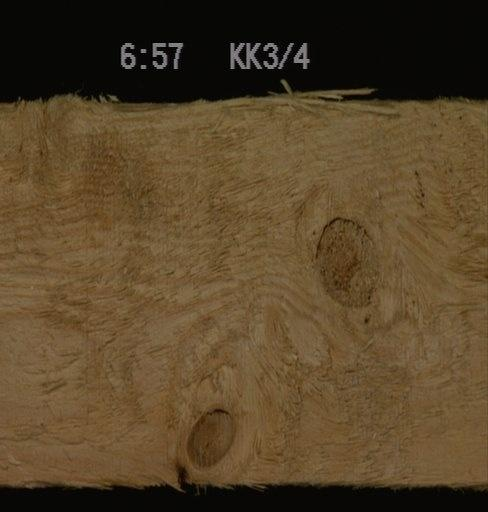dry_knot: (310, 212, 381, 310), (182, 405, 237, 468)
wave: (61, 94, 200, 124)
